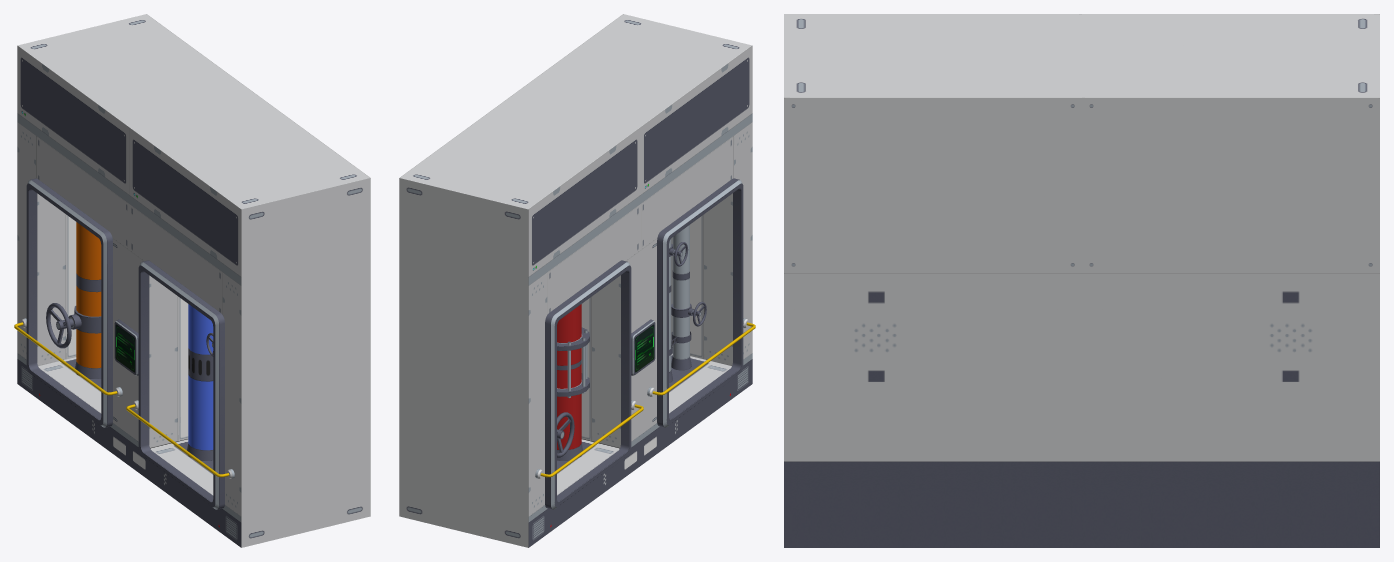
File: Wall_Normal_Simple_06.FBX
The picture shows the model from 3 angles, left to right: view 1: azimuth 30°, elevation 25°; view 2: azimuth 150°, elevation 25°; view 3: azimuth 270°, elevation 25°; orthographic projection. The views are drawn at different scales.
Visible parts, largest first — view 1: Wall_Normal_Simple_06, Wheel_A; view 2: Wall_Normal_Simple_06, Wheel_A; view 3: Wall_Normal_Simple_06.
Boxes of the visible parts, box(x1,y1,x2,y2) form: Wall_Normal_Simple_06: box(14, 14, 370, 547); Wheel_A: box(46, 303, 73, 348); Wall_Normal_Simple_06: box(399, 14, 755, 547); Wheel_A: box(557, 412, 574, 457); Wall_Normal_Simple_06: box(784, 14, 1379, 547).
Bounding box in the file's own units: 2.21 × 5 × 6.
Materials: 4 (4 with a texture image).
